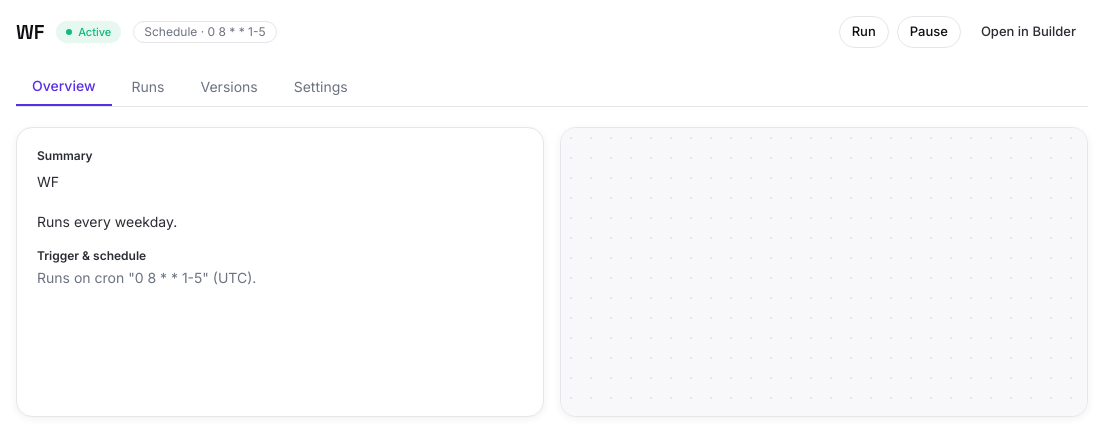
Scenario: WorkflowDetail › switches to Versions and offers rollback for non-current versions
Click the button "Versions" at (229,87), box [184, 68, 274, 106]
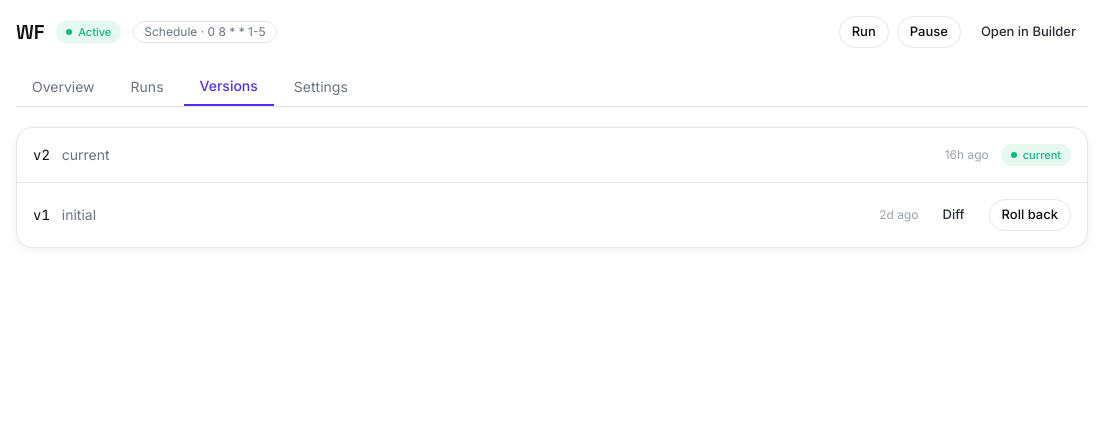
Expected: the text "v1" is shown, [33, 205, 50, 225]
Expected: the button "Roll back" is shown, [989, 199, 1071, 231]
